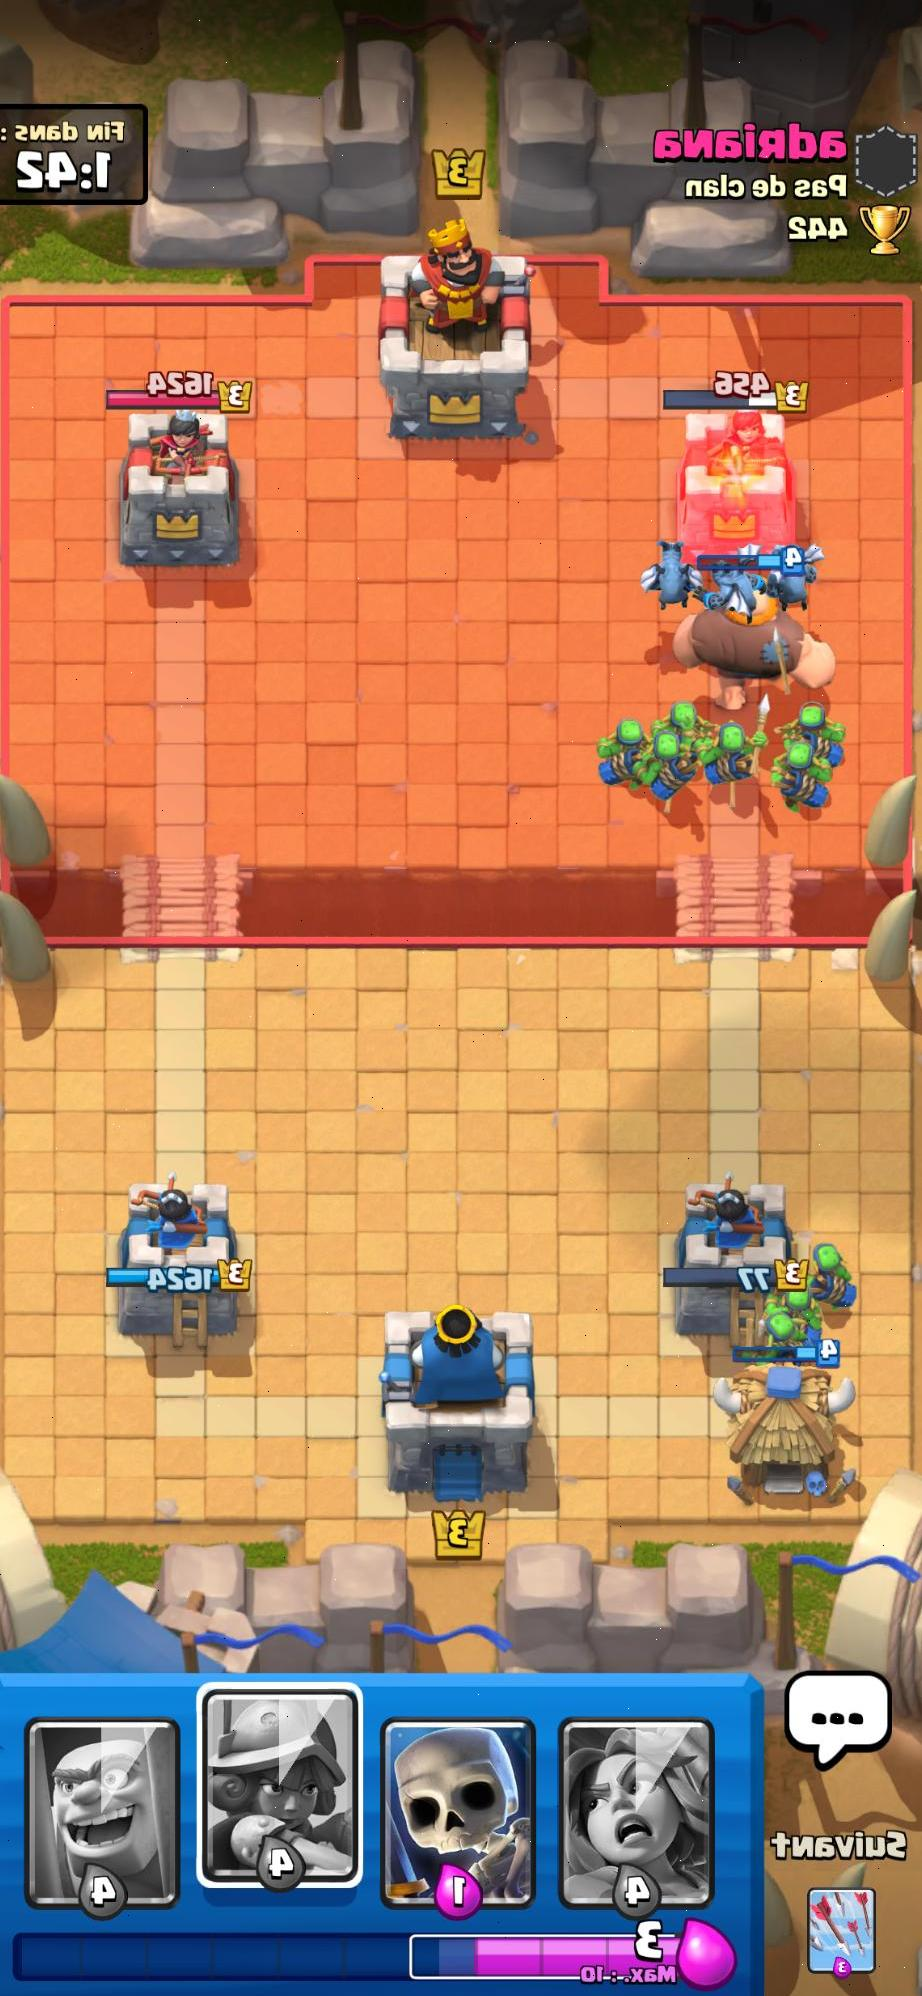player_giant: (668, 576, 834, 706)
player_goblin_hut: (713, 1347, 862, 1508)
player_minions: (636, 533, 702, 609), (755, 539, 827, 607), (695, 547, 759, 615)
player_spear_goblins: (736, 1280, 824, 1357), (768, 735, 837, 812), (590, 713, 656, 788), (641, 727, 704, 804), (705, 715, 768, 792), (798, 1232, 860, 1306), (786, 697, 850, 764)
